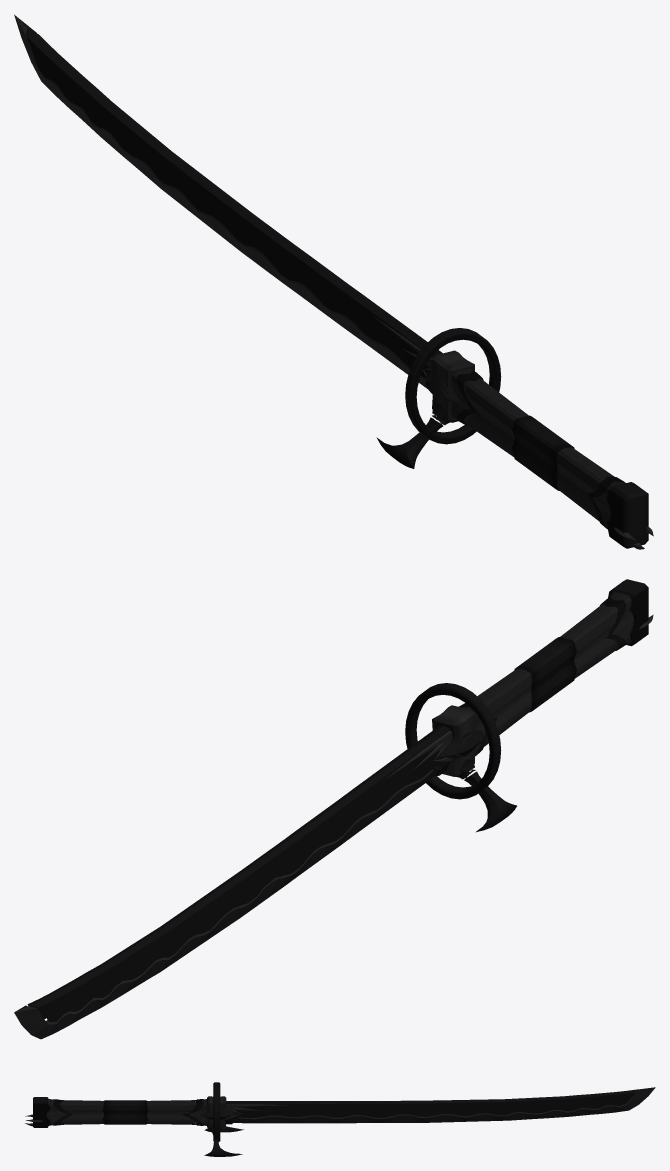
The model's file is thaosvenom_1.obj.
The picture shows the model from 3 angles, top to bottom: view 1: azimuth 30°, elevation 25°; view 2: azimuth 150°, elevation 25°; view 3: azimuth 270°, elevation 25°; orthographic projection. The views are drawn at different scales.
Visible parts, largest first — view 1: Satsujin_Cube.001; view 2: Satsujin_Cube.001; view 3: Satsujin_Cube.001.
Part boxes in pixels (x1,y1,x2,y2): Satsujin_Cube.001: [14, 14, 653, 549]; Satsujin_Cube.001: [14, 579, 653, 1039]; Satsujin_Cube.001: [25, 1082, 655, 1156].
Size of the model in its own units: 0.2908 by 0.323 by 3.
